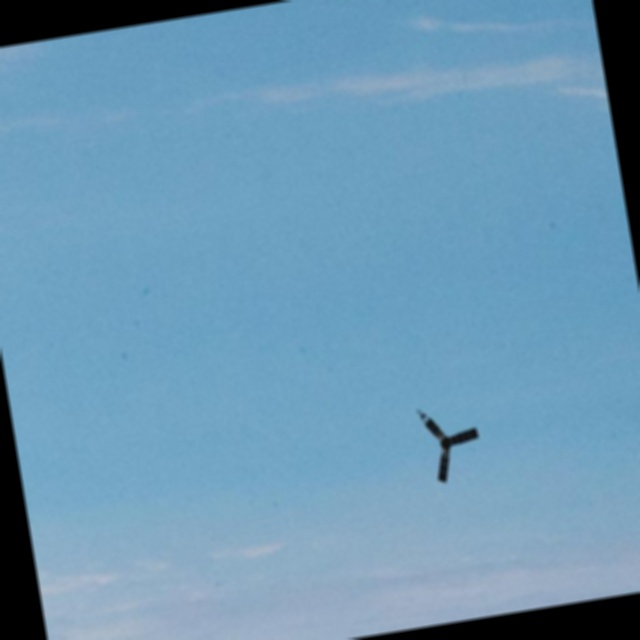satellite: (394, 398, 509, 499)
